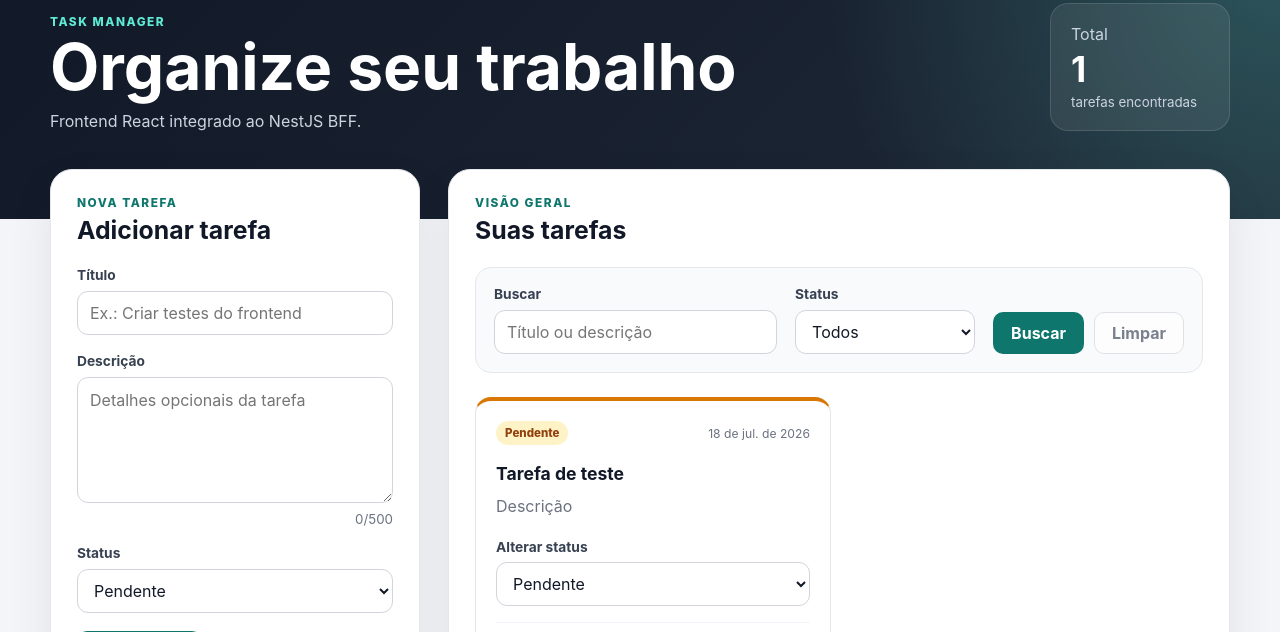
Test: App › clears filters and cancels delete dialog
The image size is (1280, 632).
Type "abc" into the field labelled "Buscar" at (636, 332), box [494, 310, 777, 354]
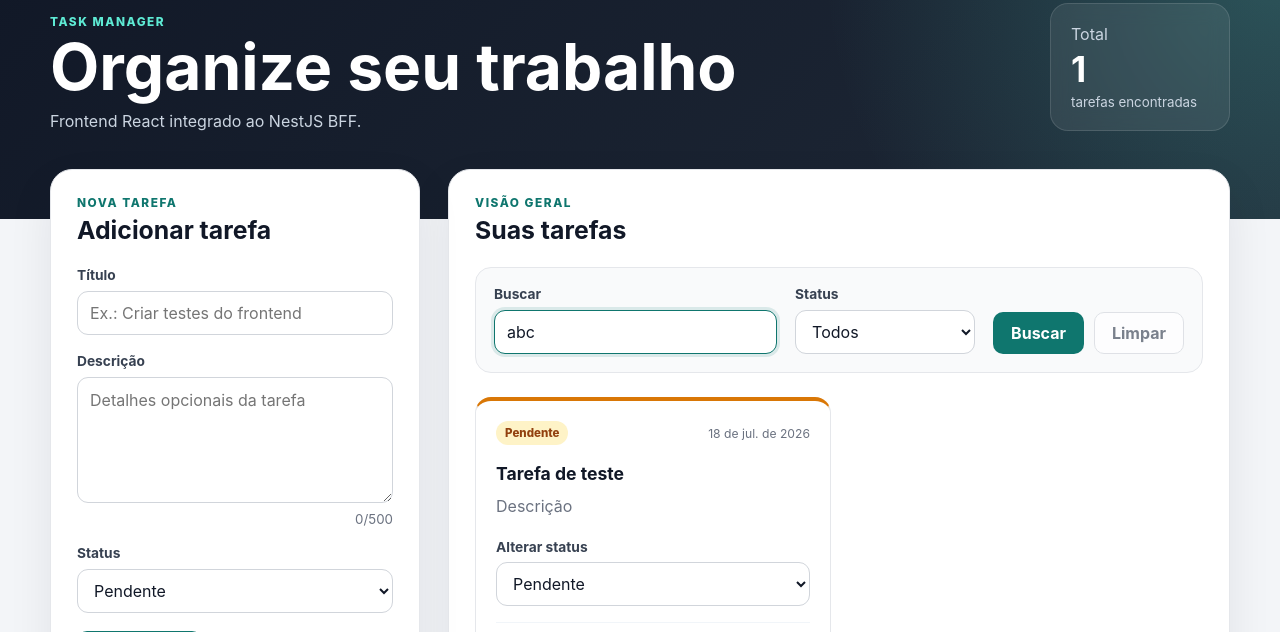
Click the button "Buscar" at (1039, 333), box [993, 312, 1084, 354]
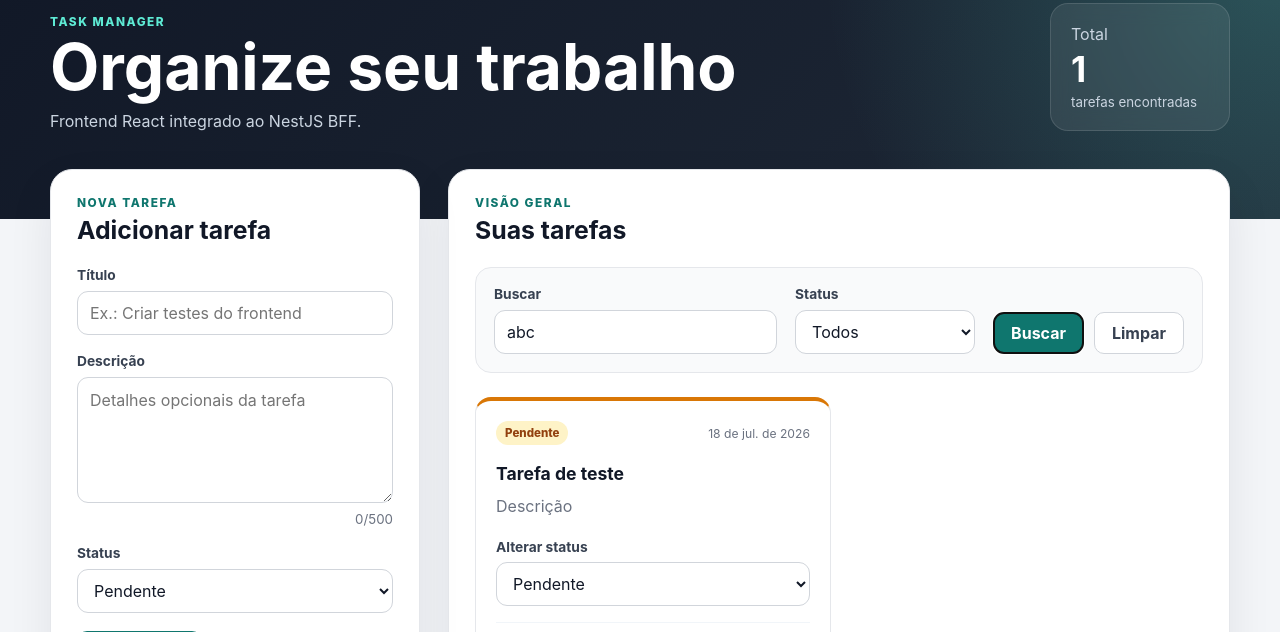
Click the button "Limpar" at (1139, 333), box [1094, 312, 1184, 354]
(page scrolled)
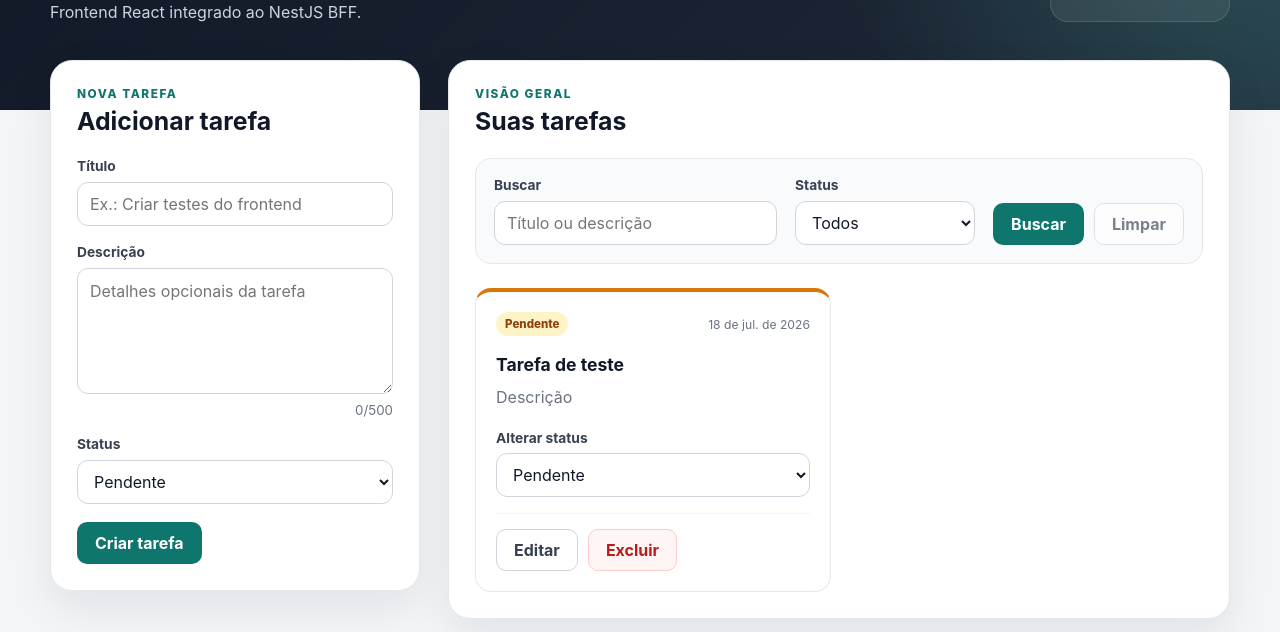
Result: the field labelled "Buscar" is empty at [494, 201, 777, 245]
Click the button "Excluir" at (633, 550), box [588, 529, 677, 571]
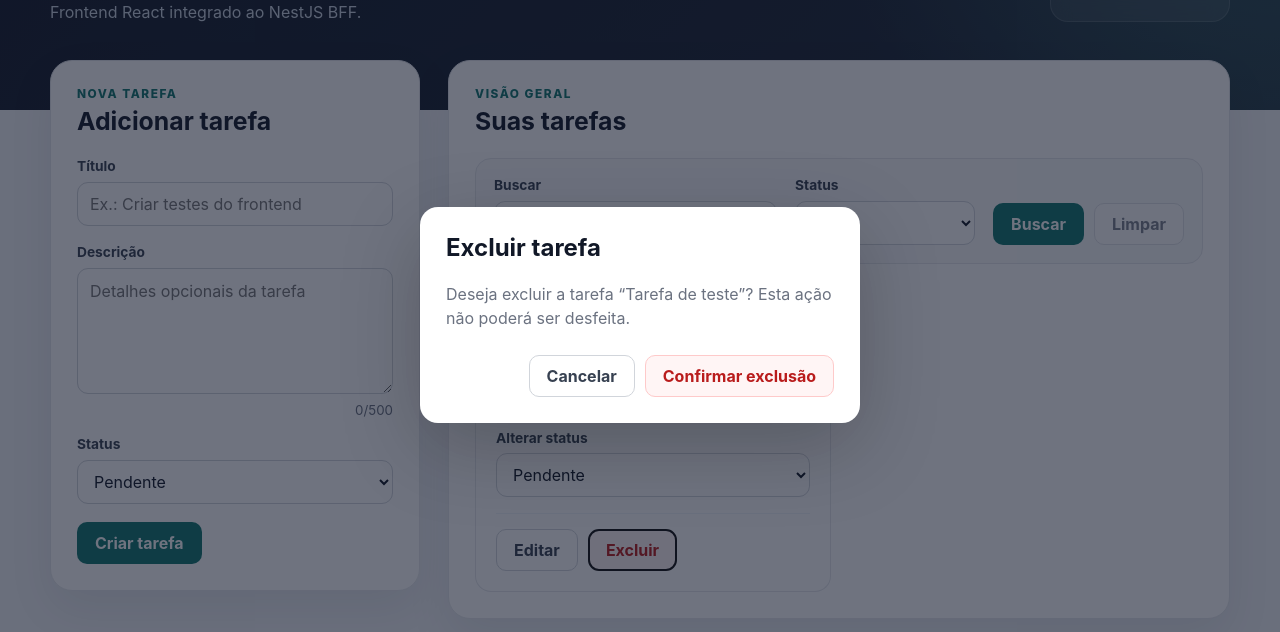
Click the button "Cancelar" at (582, 376), box [529, 355, 635, 397]
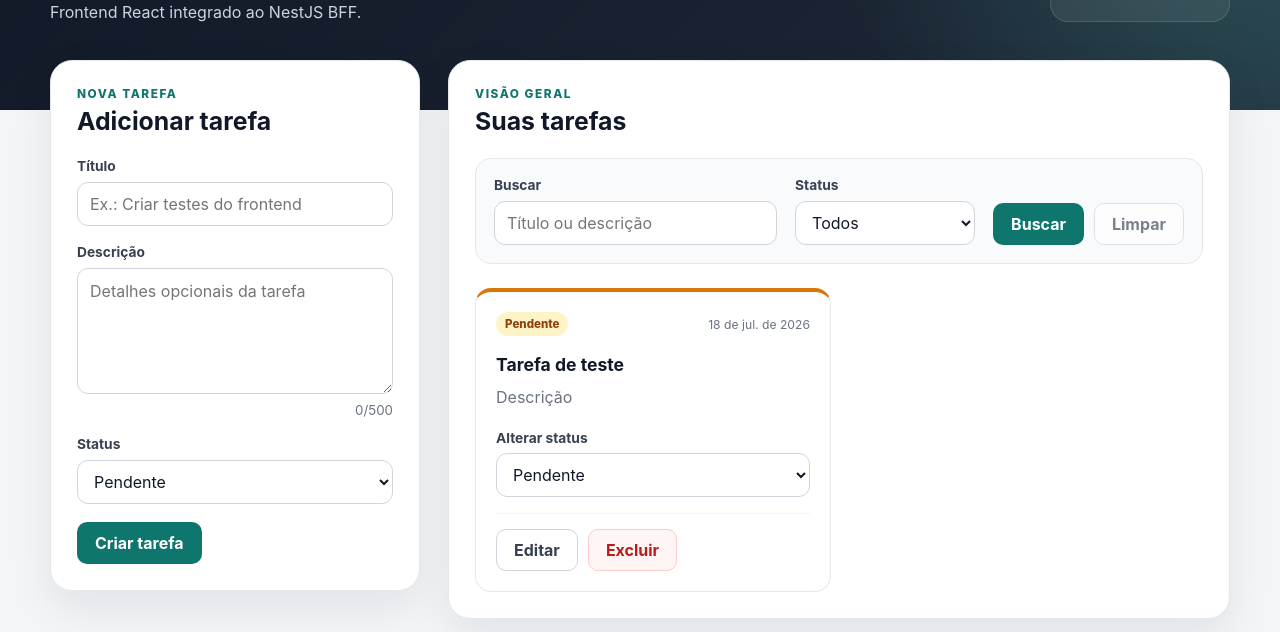
Result: the dialog is gone
